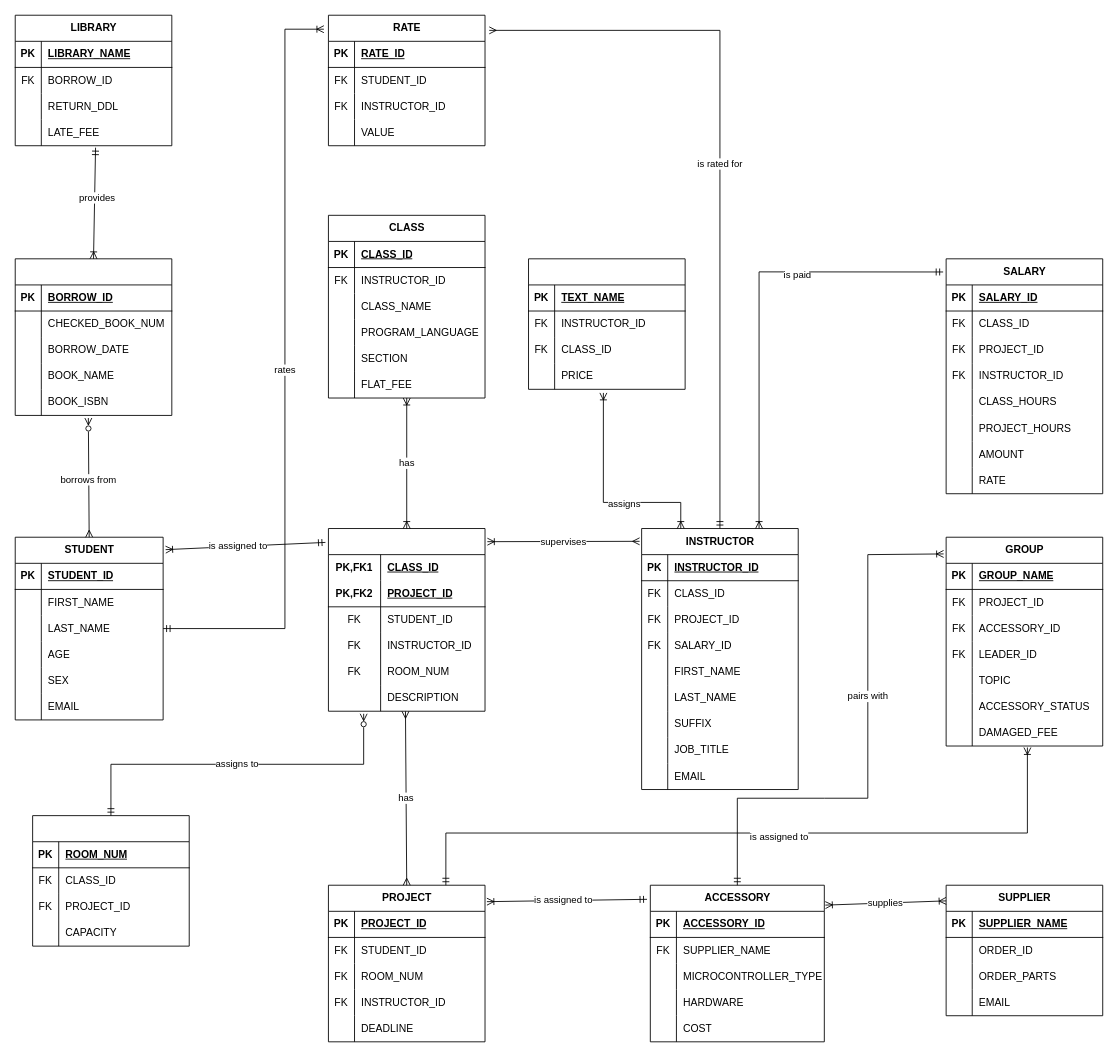
Image size: 1118x1057. Some labels were removed from this diagram. The shapes that lost their labels are listed below. From the top down, each one's box as (x1, y1, x2, y2) in pixels, then its label:
(14, 258, 172, 415): BORROWED BOOK
(528, 258, 685, 389): TEXTBOOK
(328, 528, 485, 711): TASK
(32, 815, 189, 946): ROOM SCHEDULE
